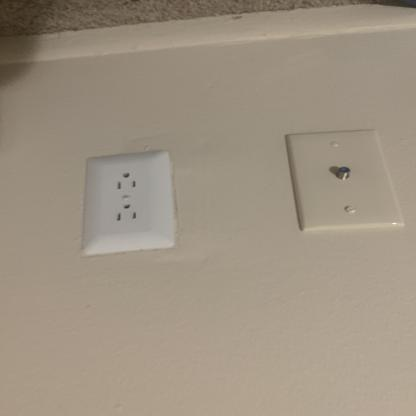OUTLET: (83, 155, 173, 256)
